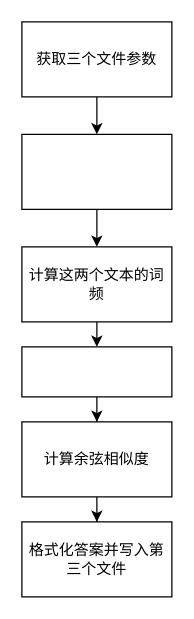
Some shapes in this 194 by 619 pixel diagram are drawn without their labels. Each missing label, with the centre of its shape:
"构造词向量" goes at pixel 96 371.
"读取前两个文件文本" goes at pixel 96 171.
